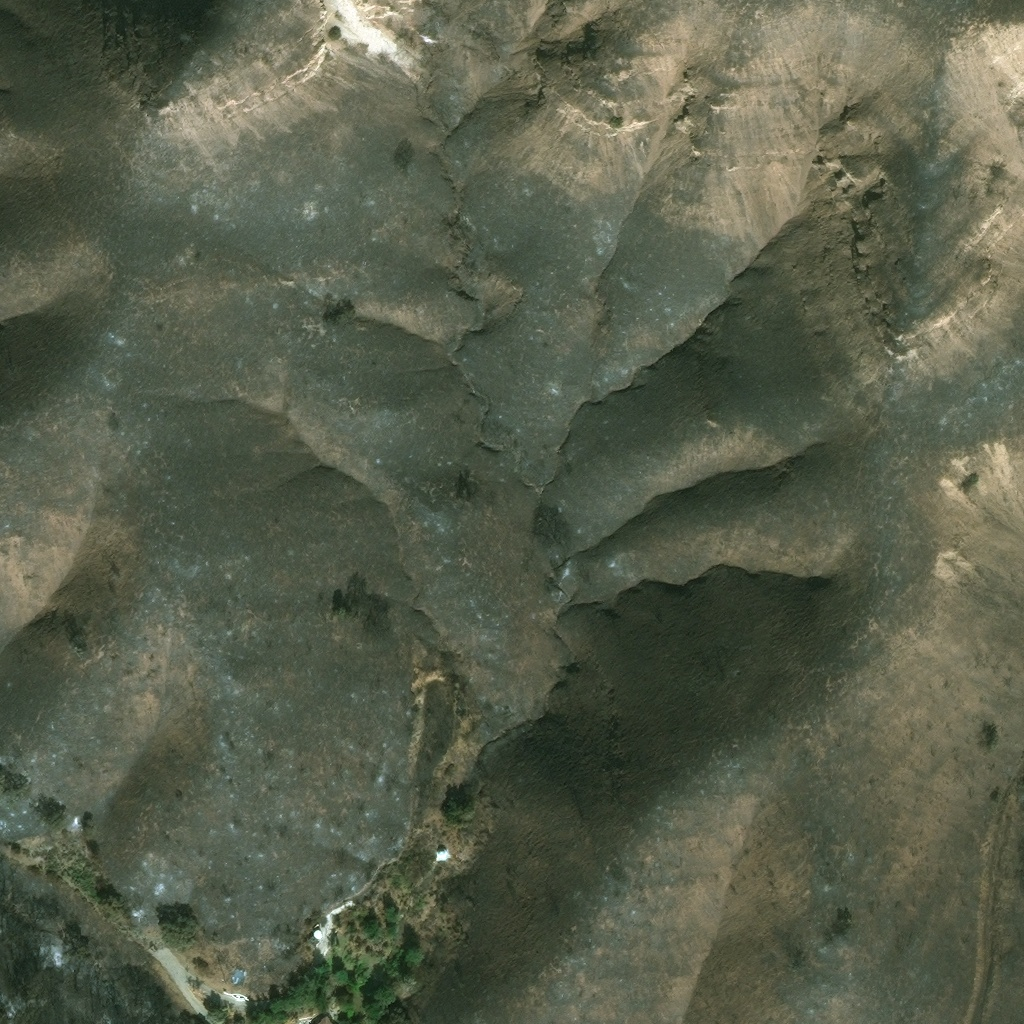0 no-damage: (313, 1013, 333, 1023), (434, 844, 448, 857), (309, 928, 322, 937)
